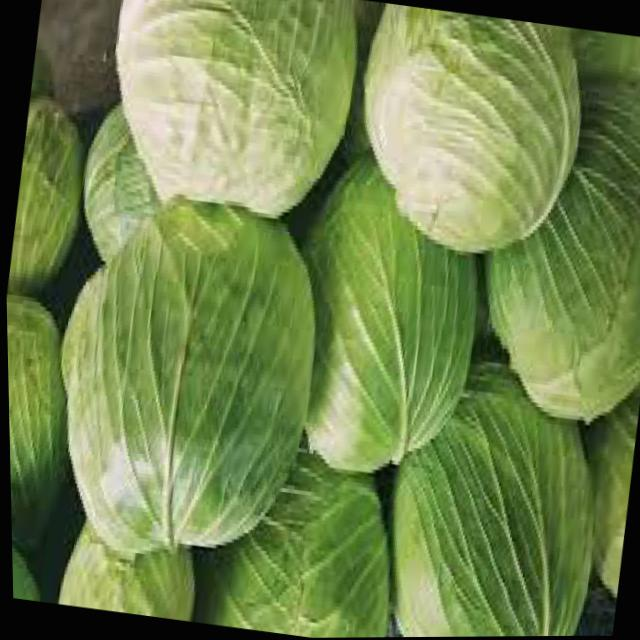Cabbage: (30, 185, 338, 587), (269, 140, 499, 488), (366, 348, 616, 638), (341, 1, 593, 267), (461, 68, 640, 433), (95, 0, 366, 220), (5, 288, 90, 548), (3, 90, 97, 300)
